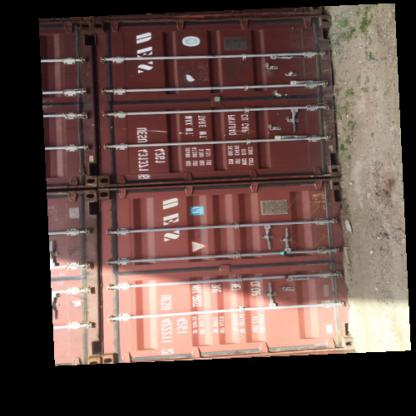Damage: (297, 16, 347, 346)
